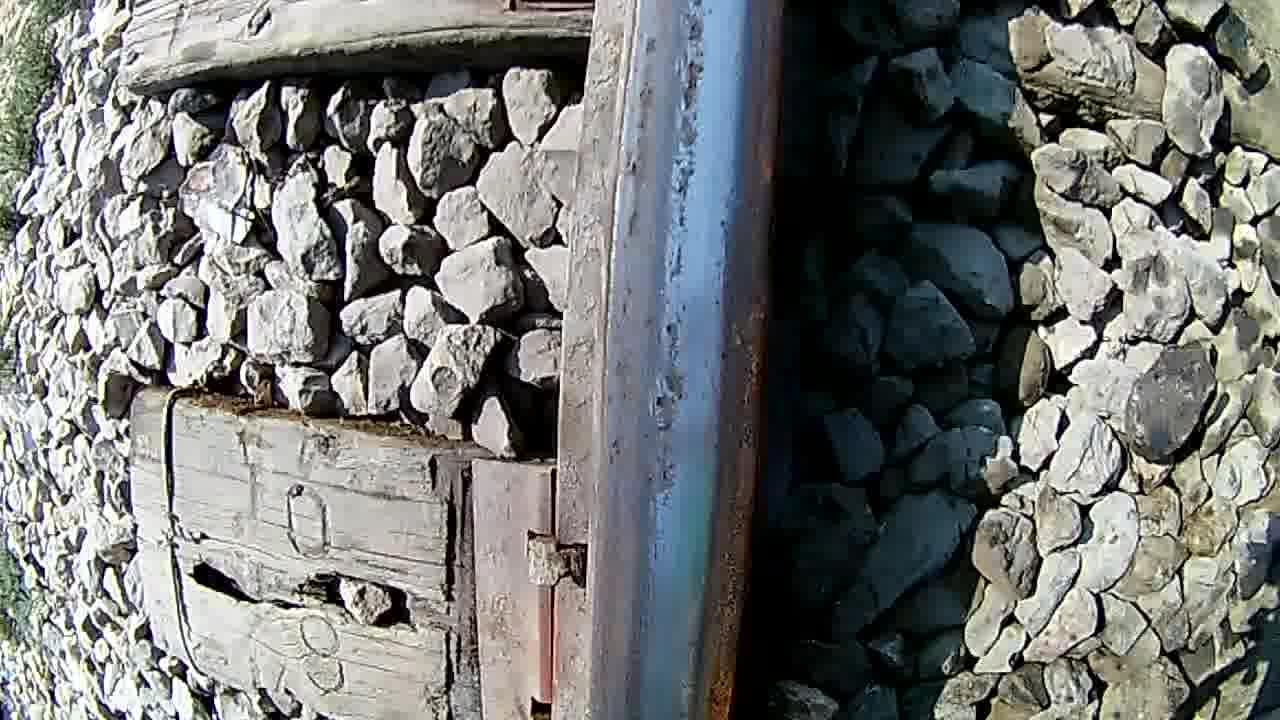crack: (603, 1, 781, 720)
